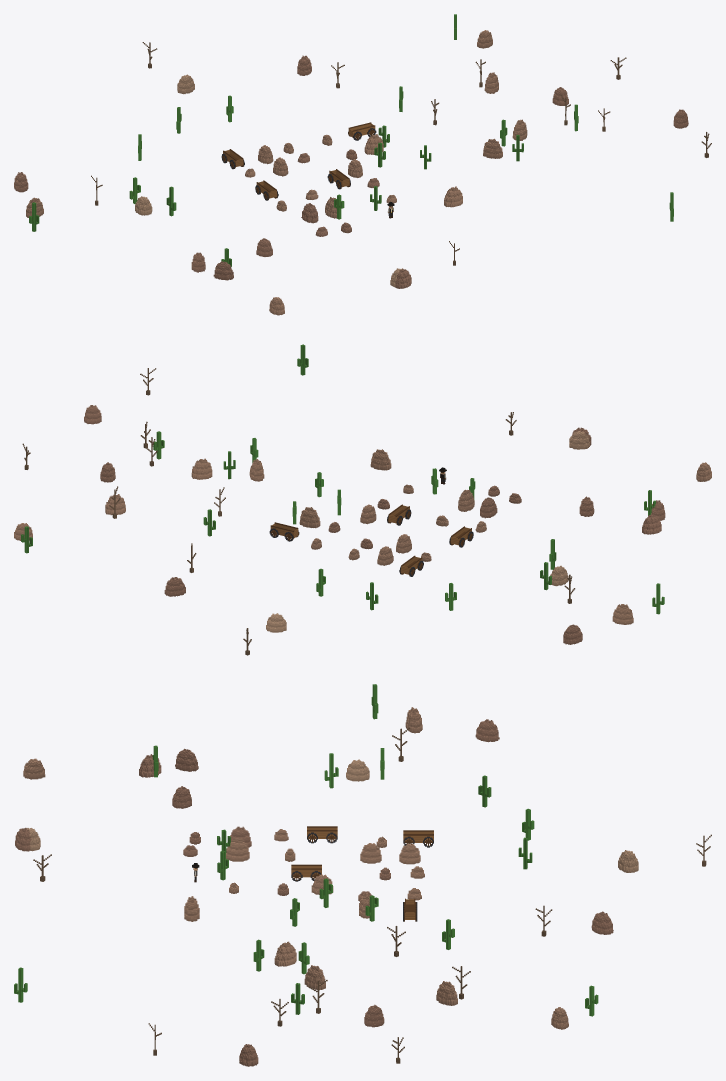
The model's file is desert_seed7.glb.
3 renders of one model, top to bottom at view 1: azimuth 30°, elevation 25°; view 2: azimuth 150°, elevation 25°; view 3: azimuth 270°, elevation 25°, orthographic. The views are drawn at different scales.
Size of what is drawn, in the model's own units: 81.38 by 3.6 by 68.3.
